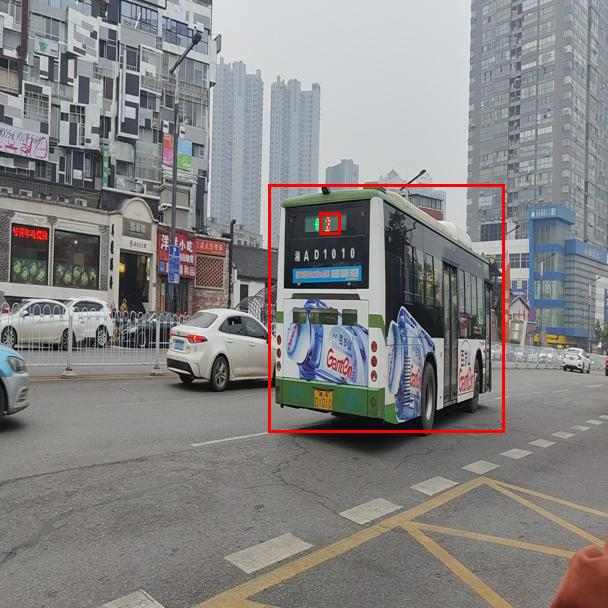bus: (268, 184, 504, 432)
screen: (319, 212, 340, 234)
